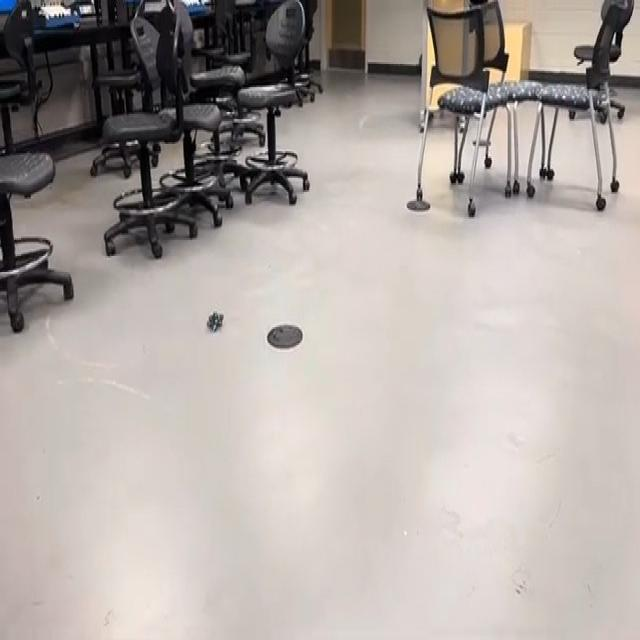drone: (195, 301, 238, 341)
